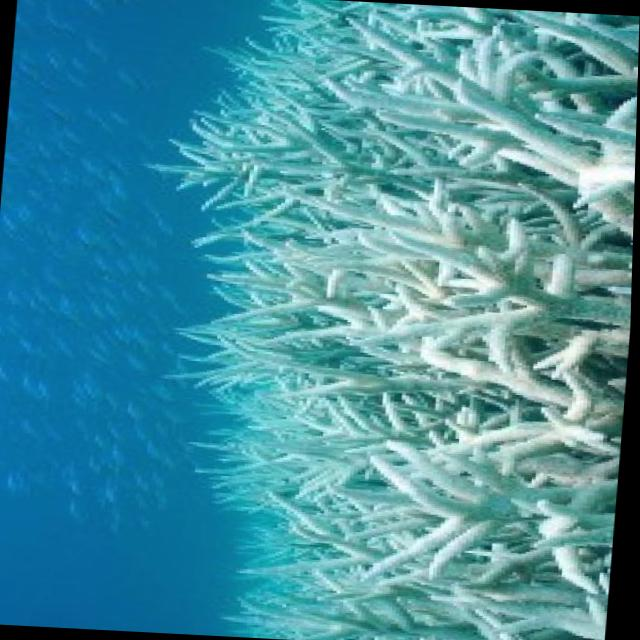Bleached Coral: (156, 0, 640, 640)
